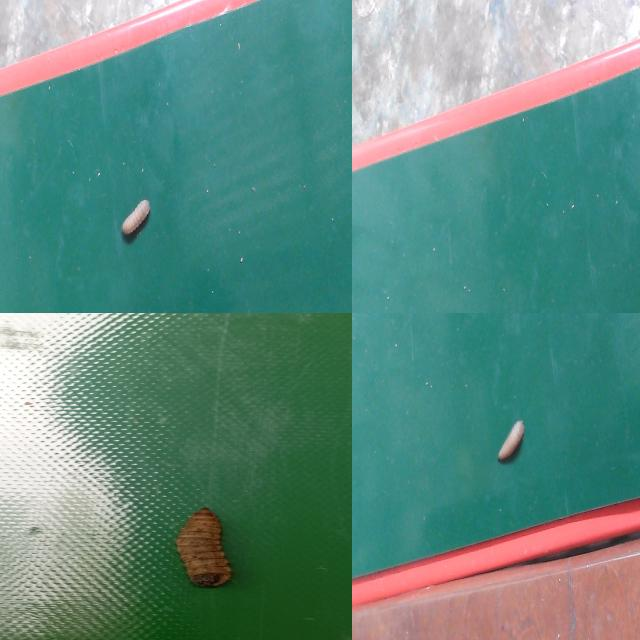Maggot: (176, 510, 235, 591), (118, 199, 151, 244), (497, 421, 525, 465)
